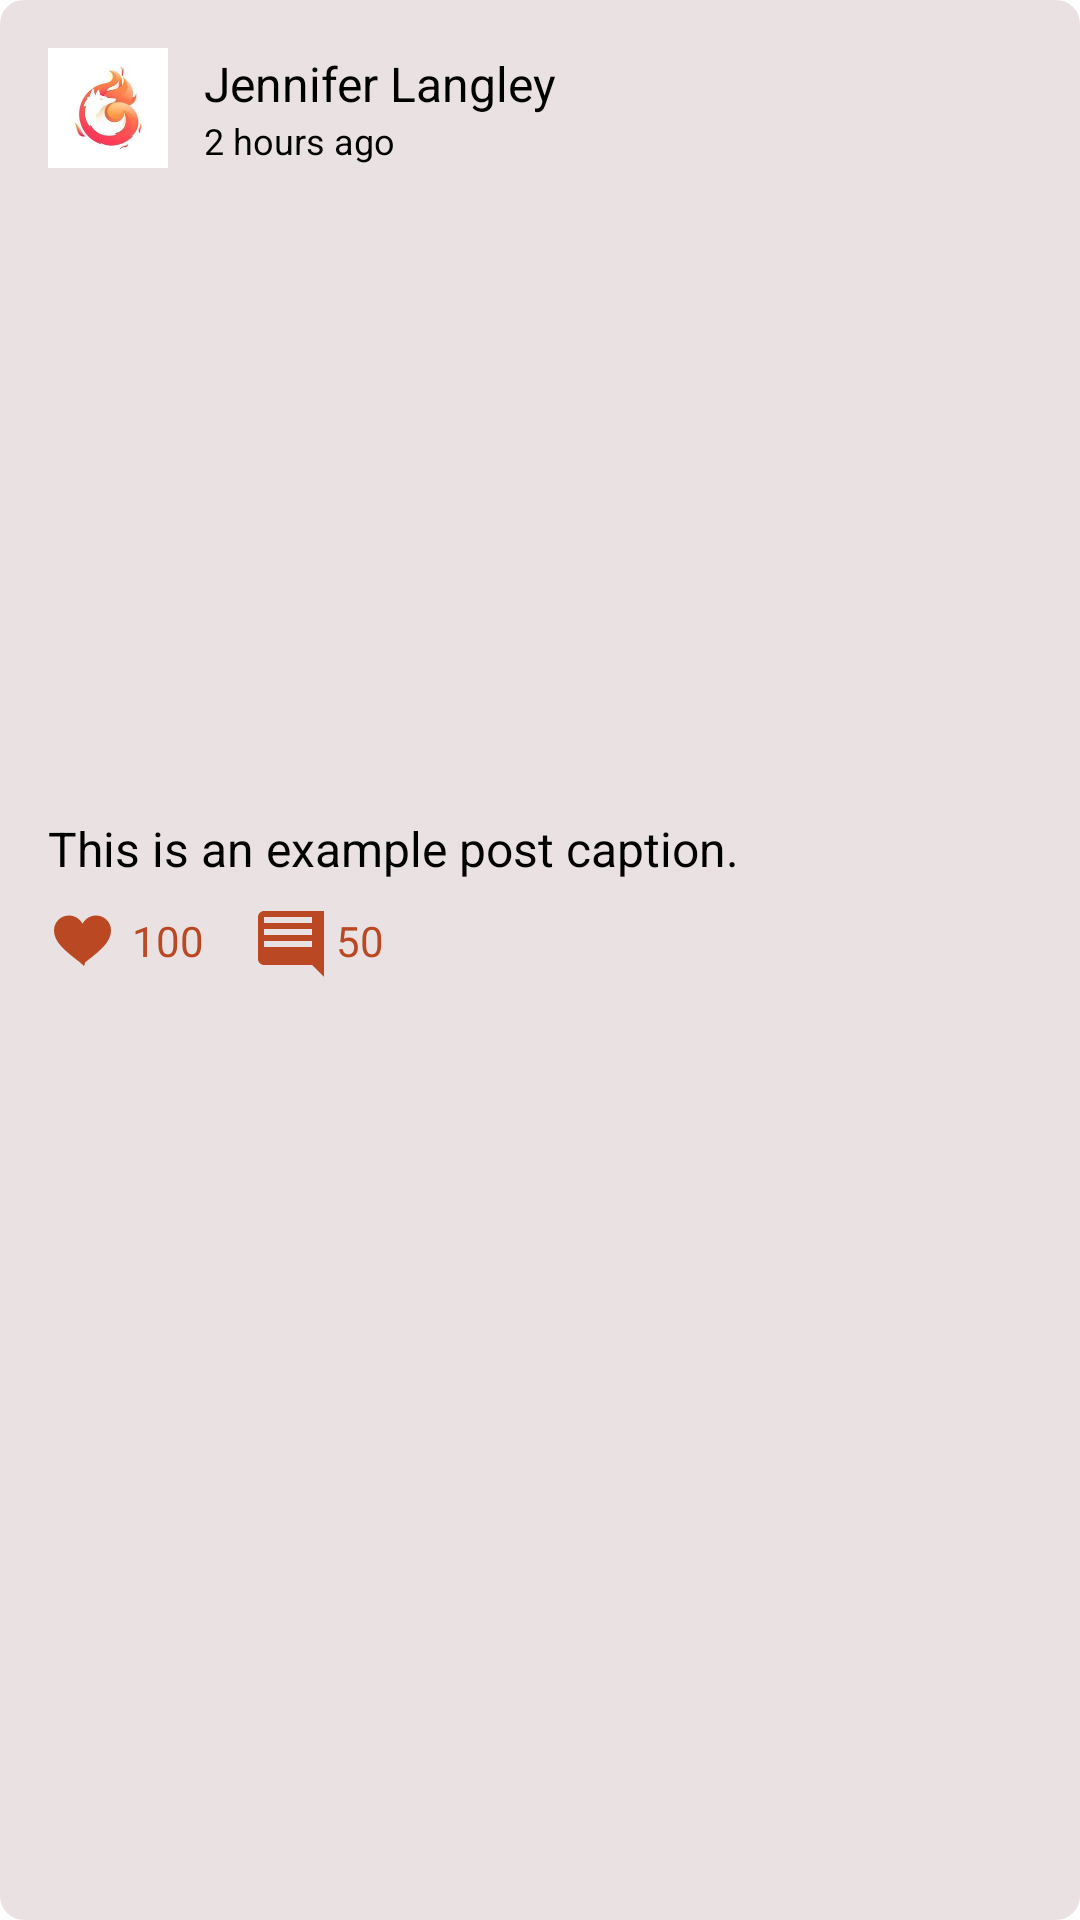

Point at icon controls on the screen. Image size 1080 × 1920, points as [x,y].
comment: [291,944]
like: [82,940]
profile picture: [108,108]
